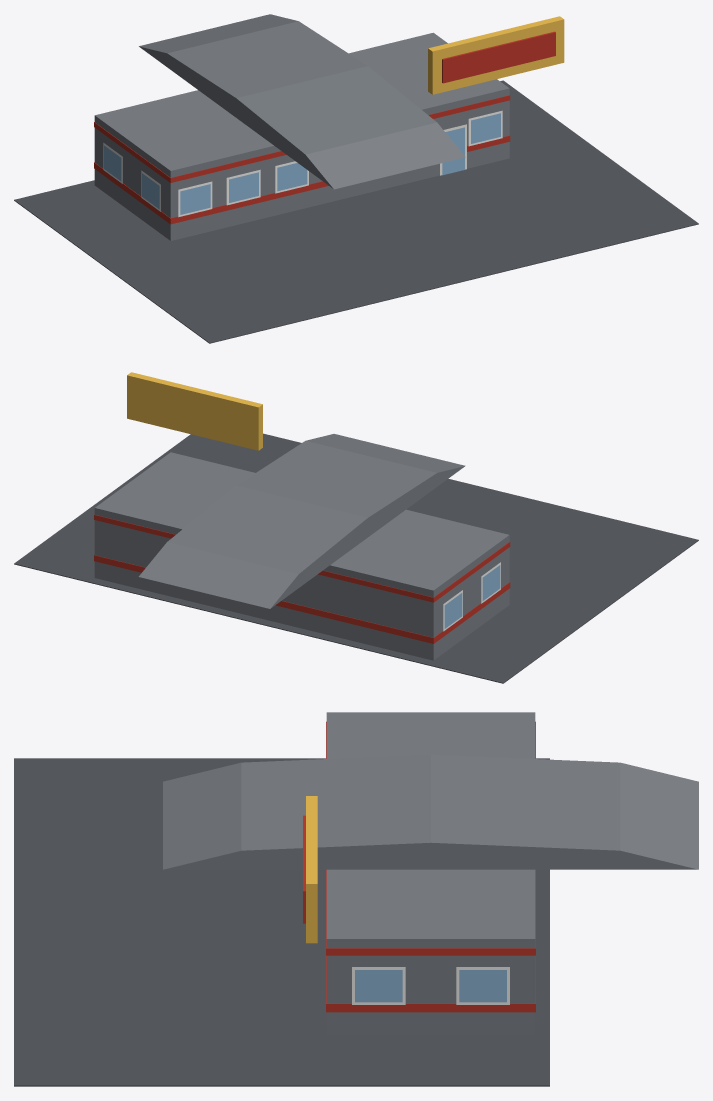
The model's file is diner_americain.glb.
The picture shows the model from 3 angles, top to bottom: view 1: azimuth 30°, elevation 25°; view 2: azimuth 150°, elevation 25°; view 3: azimuth 270°, elevation 25°; orthographic projection. The views are drawn at different scales.
Visible parts, largest first — view 1: diner_americain; view 2: diner_americain; view 3: diner_americain.
Boxes of the visible parts, x1,y1,x2,y2 form: diner_americain: (14, 14, 698, 343); diner_americain: (14, 372, 698, 683); diner_americain: (14, 712, 698, 1086).
Bounding box in the file's own units: 26 × 6.8 × 23.
Materials: 1 (1 with a texture image).
